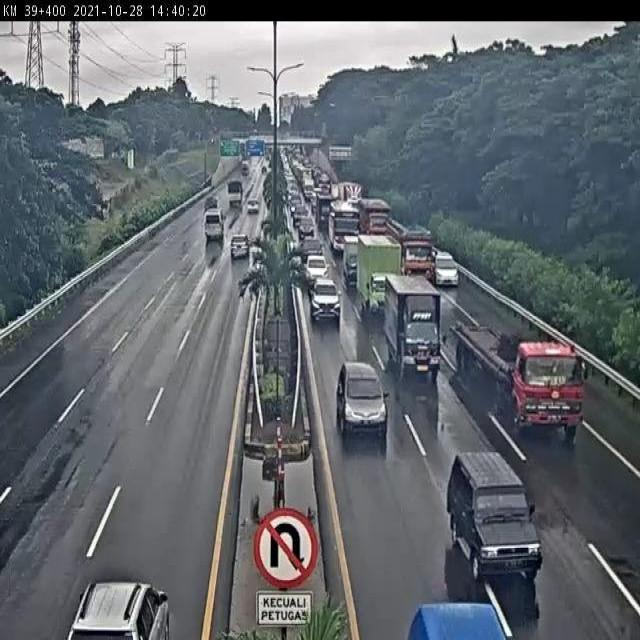big truck: (450, 327, 583, 445)
car: (445, 449, 543, 582), (335, 360, 392, 445), (431, 242, 462, 286), (310, 275, 341, 317), (305, 252, 329, 284), (229, 233, 250, 259)
mid truck: (385, 212, 430, 273)
small bus: (205, 206, 225, 242)
small truck: (383, 275, 441, 380), (355, 228, 394, 308), (338, 227, 356, 273)
